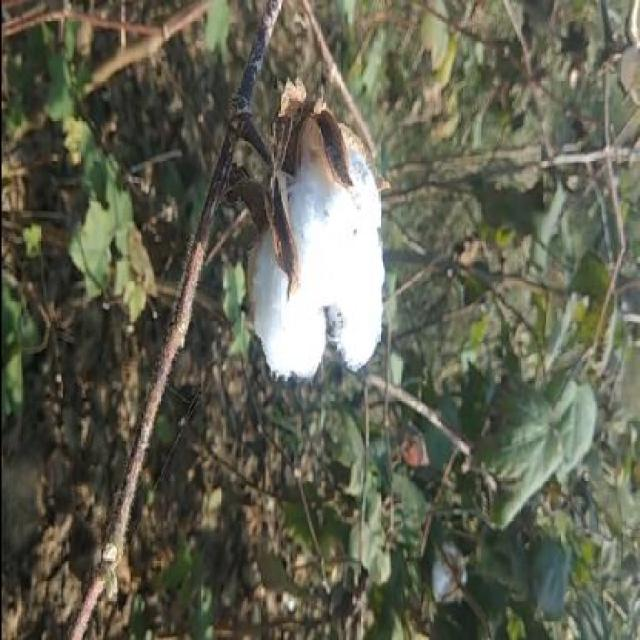cotton_ready: (195, 41, 407, 442)
